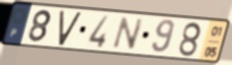4: (86, 13, 110, 49)
8: (178, 21, 203, 58), (27, 8, 53, 43)
9: (149, 18, 176, 56)
N: (110, 16, 147, 51)
V: (57, 10, 84, 47)
